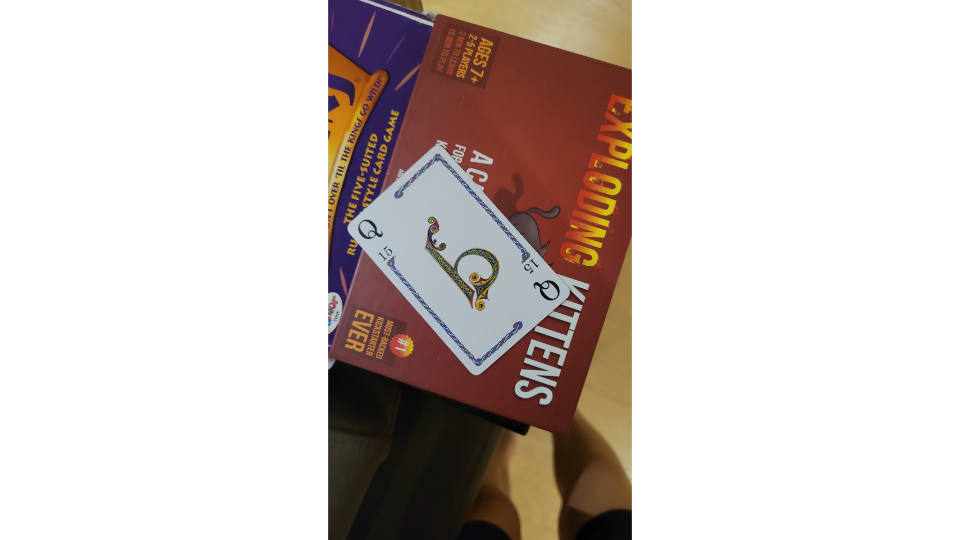Q: (346, 143, 573, 377)
